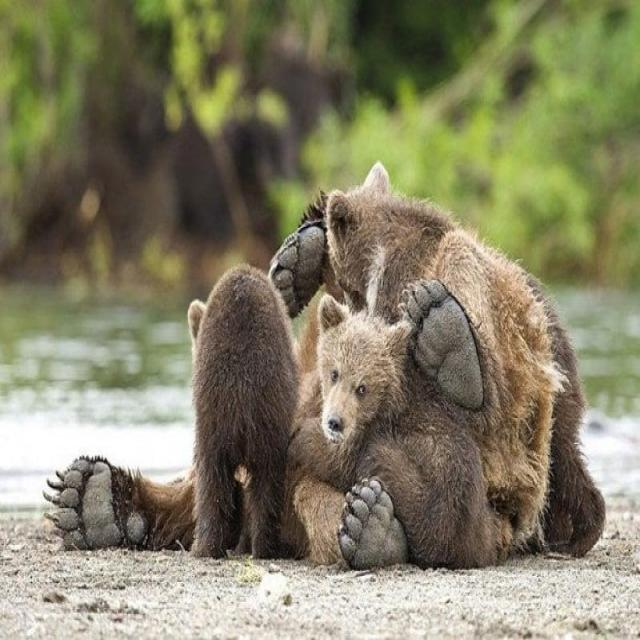Bear: (330, 163, 573, 528), (294, 310, 486, 570), (189, 266, 306, 564), (319, 300, 407, 490)
